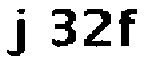2: (82, 8, 112, 48)
3: (46, 8, 78, 50)
f: (117, 5, 138, 49)
j: (4, 6, 31, 58)
